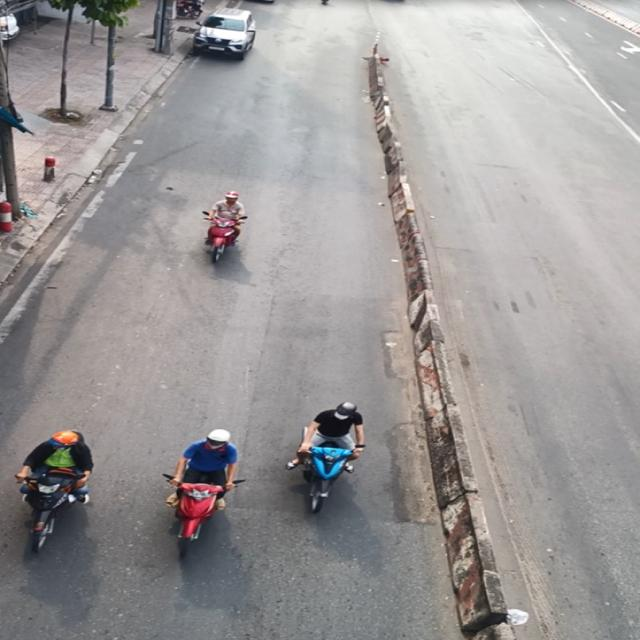car: (189, 5, 268, 64)
motor: (136, 422, 260, 569), (7, 421, 121, 564), (276, 392, 389, 531), (189, 185, 260, 271)
